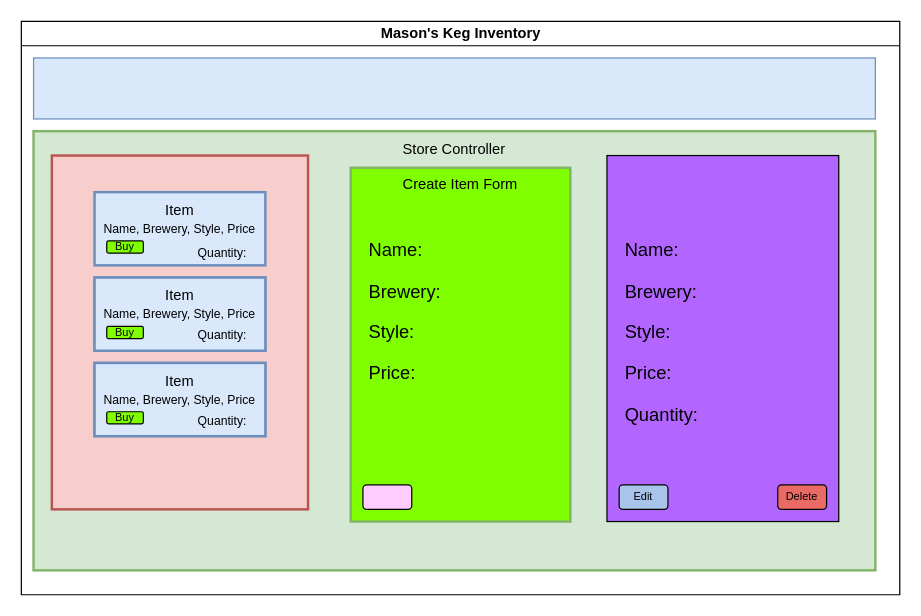
This 921x616 diagram has some shape labels left out. Here are the shapes that lost their labels. From the top down, the box of each, then its label:
(32, 57, 875, 119): HEADER
(50, 154, 309, 510): Item List
(606, 154, 839, 522): Item Details
(362, 484, 412, 509): Submit
